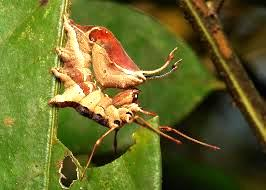Lobster Moth: (38, 9, 178, 157)
